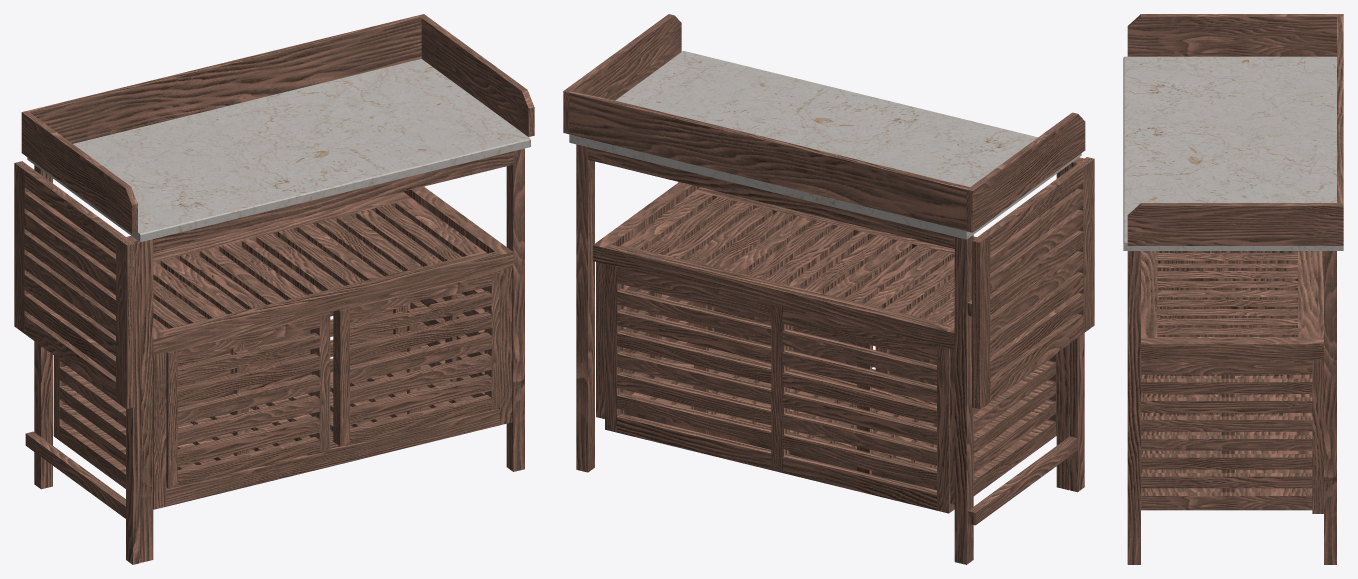
File: workBenchM.gltf
3 views of the same model, side by side, from view 1: azimuth 30°, elevation 25°; view 2: azimuth 150°, elevation 25°; view 3: azimuth 270°, elevation 25° (orthographic). The views are drawn at different scales.
Parts seen in each view (by area): view 1: workBench, stoneBench, benchExtend, door1, door, legExtend1; view 2: workBench, stoneBench, benchExtend, legExtend1, door1; view 3: workBench, stoneBench.
Boxes of the visible parts, x1=… form: workBench: x1=21, y1=14, x2=534, y2=562; stoneBench: x1=27, y1=59, x2=530, y2=242; benchExtend: x1=14, y1=161, x2=134, y2=408; door1: x1=333, y1=271, x2=502, y2=446; door: x1=166, y1=312, x2=330, y2=488; legExtend1: x1=25, y1=236, x2=140, y2=564; workBench: x1=563, y1=14, x2=1085, y2=564; stoneBench: x1=569, y1=51, x2=1081, y2=239; benchExtend: x1=972, y1=157, x2=1094, y2=409; legExtend1: x1=967, y1=157, x2=1084, y2=525; door1: x1=708, y1=306, x2=872, y2=367; workBench: x1=1127, y1=14, x2=1343, y2=564; stoneBench: x1=1123, y1=56, x2=1343, y2=250.
Bounding box in the file's own units: 10.48 × 9.1 × 5.
Materials: 2 (2 with a texture image).
